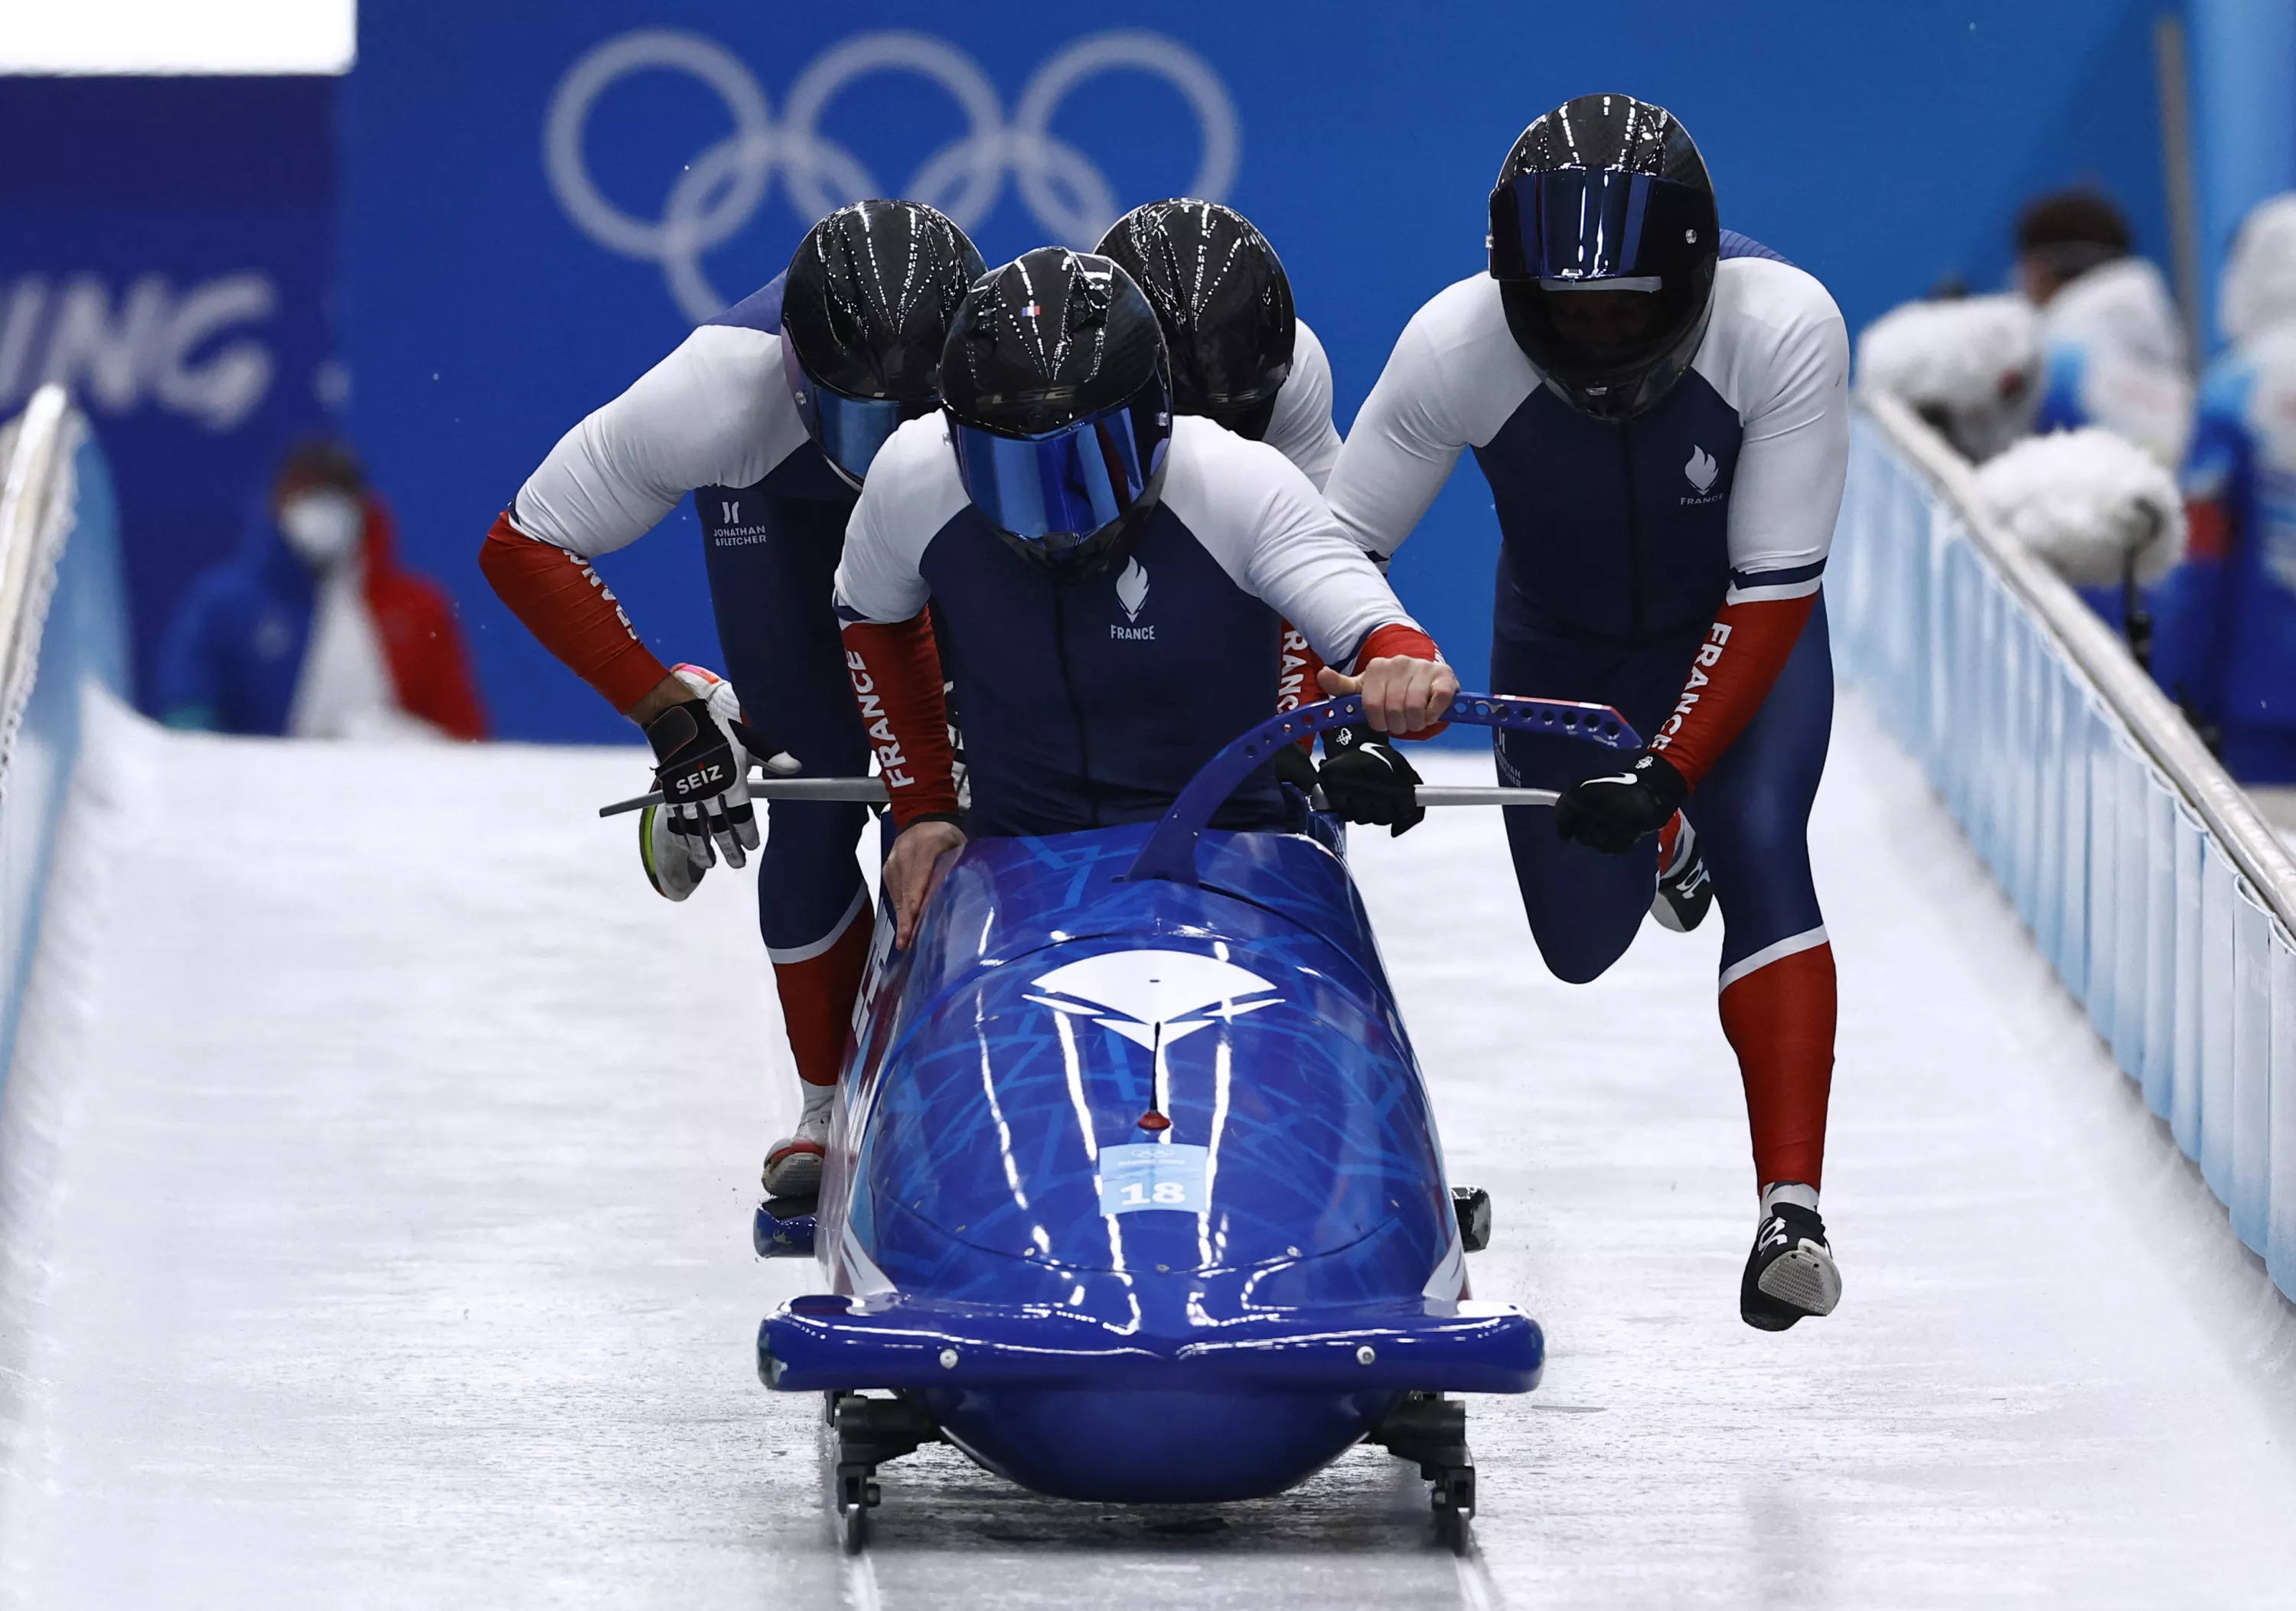Bobsleigh: (754, 834, 1542, 1522)
